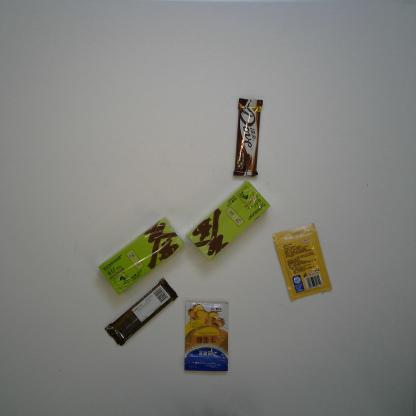Chocolate: (104, 276, 179, 346), (233, 97, 264, 177)
Instant Drink: (184, 180, 272, 262), (96, 216, 185, 296)
Seasoner: (271, 222, 333, 302), (183, 300, 229, 372)
